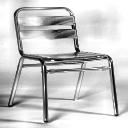chair_success: (6, 6, 124, 123)
